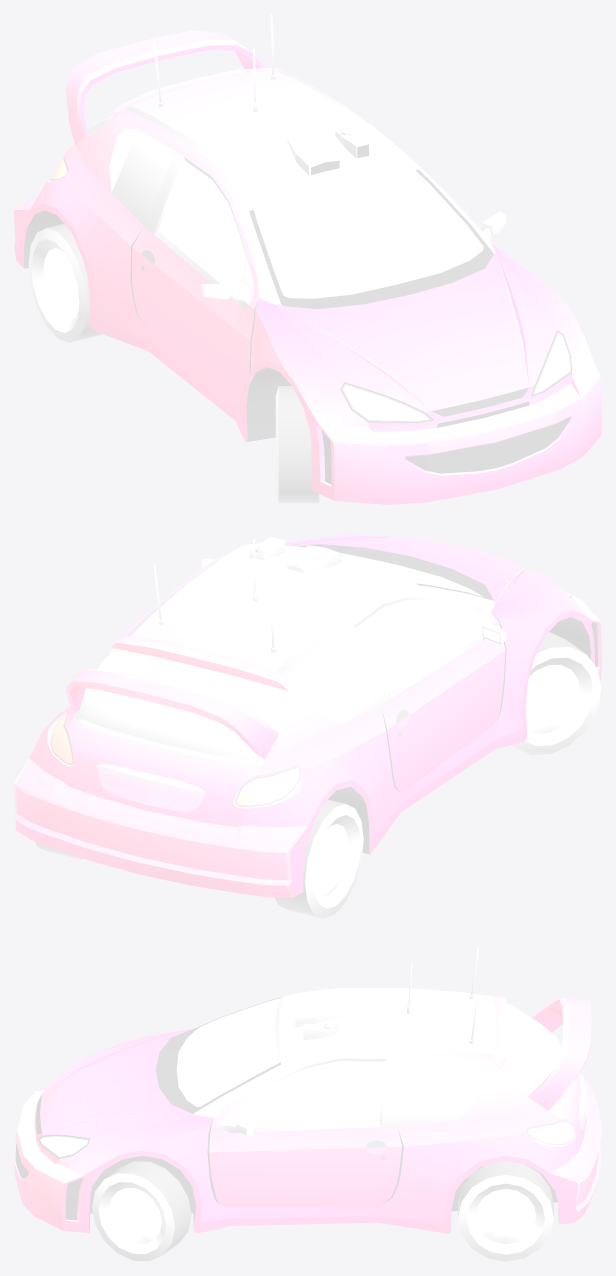
The model's file is Peugeot206.gltf.
3 views of the same model, one above another, from view 1: azimuth 30°, elevation 25°; view 2: azimuth 150°, elevation 25°; view 3: azimuth 270°, elevation 25° (orthographic). The views are drawn at different scales.
Visible parts, largest first — view 1: Model (×3); view 2: Model (×3); view 3: Model (×3).
Part boxes in pixels (bbox=[...]): Model (×3): bbox=[14, 14, 601, 504]; Model (×3): bbox=[14, 533, 601, 918]; Model (×3): bbox=[14, 947, 601, 1261].
Bounding box in the file's own units: 205 × 181 × 396.
Materials: 5 (5 with a texture image).
